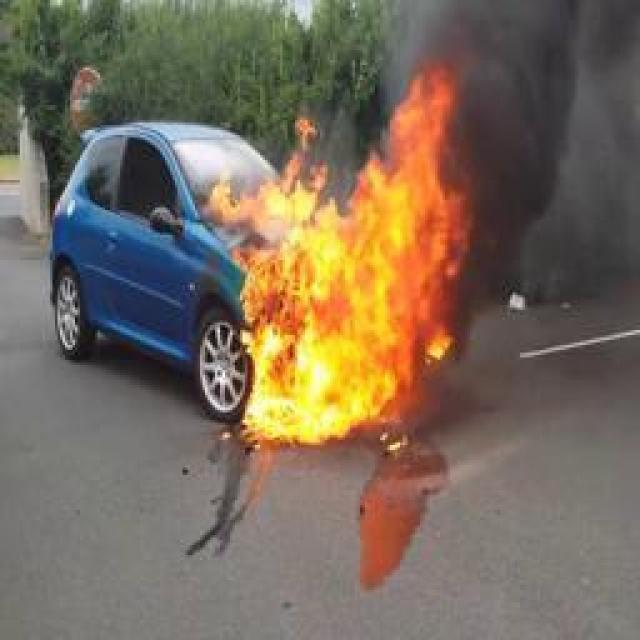Fire: (206, 61, 474, 446)
